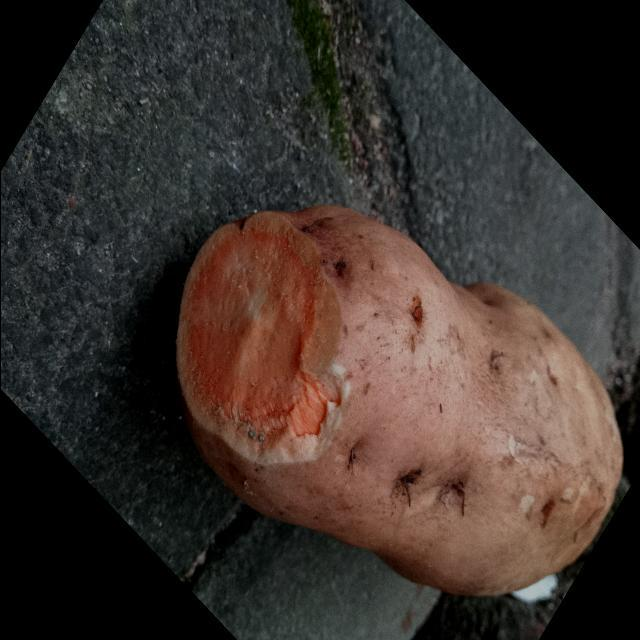Healthy Sweet Potato: (176, 212, 344, 465)
